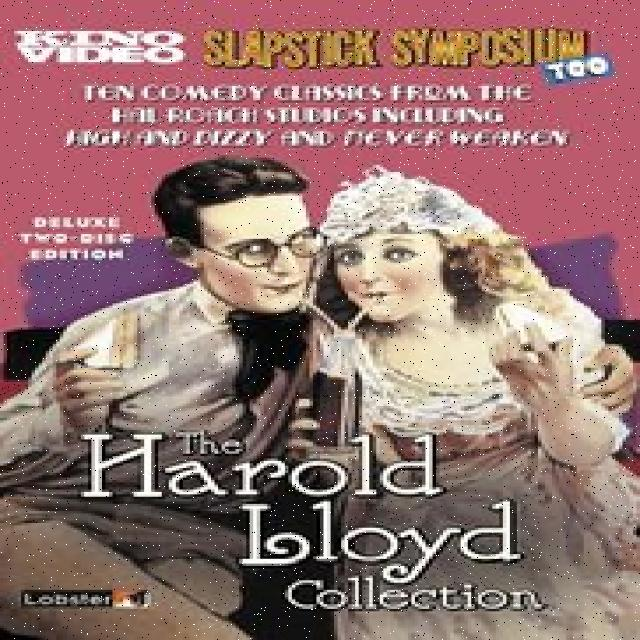movie-judul: (72, 435, 556, 621)
picture: (28, 169, 612, 517)
